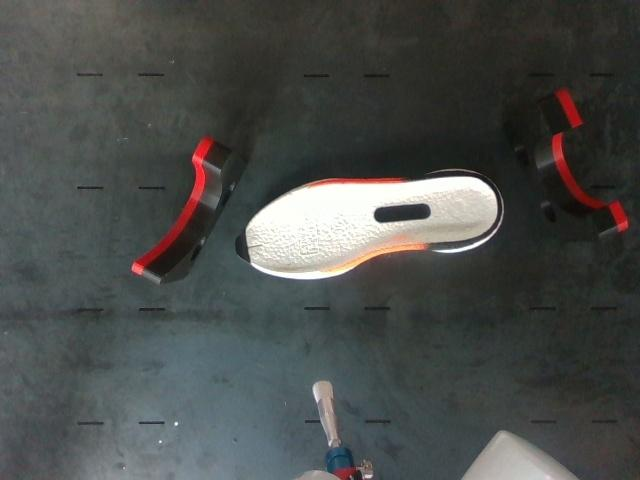shoes: (236, 176, 499, 274)
